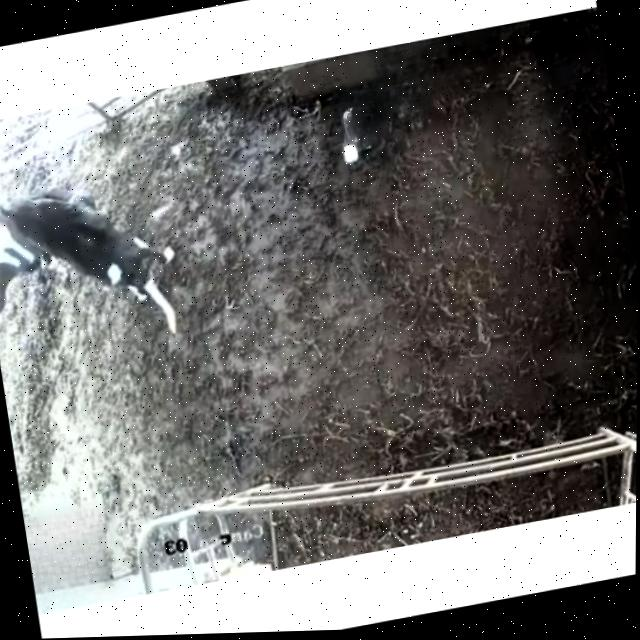ride: (0, 126, 186, 371)
